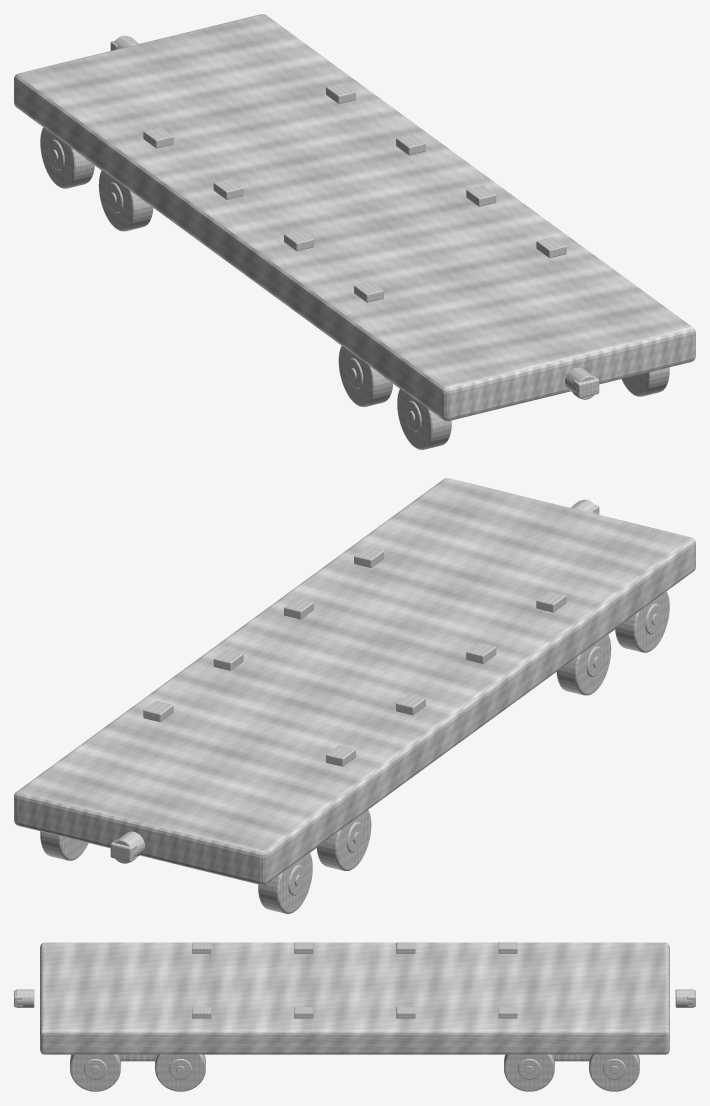
Rendered from freight_car_variant_a.glb.
The picture shows the model from 3 angles, top to bottom: view 1: azimuth 30°, elevation 25°; view 2: azimuth 150°, elevation 25°; view 3: azimuth 270°, elevation 25°; orthographic projection. The views are drawn at different scales.
Parts seen in each view (by area): view 1: Freight underframe, Rail wheel, Rail wheel.004, Rail wheel.006, Rail wheel.002, Rail wheel.001; view 2: Freight underframe, Rail wheel.006, Rail wheel.002, Rail wheel, Rail wheel.004, Rail wheel.007; view 3: Freight underframe, Rail wheel.001, Rail wheel.007, Rail wheel.003, Rail wheel.005, Wheel hub.001, Wheel hub.007, Wheel hub.003, Wheel hub.005, Coupler body.001, Coupler body.002, Bogie frame.001 (+1 smaller).
Boxes of the visible parts, x1=… form: Freight underframe: x1=14, y1=14, x2=695, y2=421; Rail wheel: x1=397, y1=388, x2=451, y2=449; Rail wheel.004: x1=98, y1=170, x2=153, y2=231; Rail wheel.006: x1=40, y1=127, x2=94, y2=188; Rail wheel.002: x1=338, y1=346, x2=392, y2=406; Rail wheel.001: x1=621, y1=367, x2=669, y2=396; Freight underframe: x1=14, y1=478, x2=695, y2=885; Rail wheel.006: x1=258, y1=852, x2=312, y2=913; Rail wheel.002: x1=556, y1=634, x2=611, y2=695; Rail wheel: x1=615, y1=591, x2=669, y2=652; Rail wheel.004: x1=317, y1=810, x2=371, y2=870; Rail wheel.007: x1=40, y1=831, x2=88, y2=860; Freight underframe: x1=40, y1=942, x2=669, y2=1054; Rail wheel.001: x1=70, y1=1054, x2=120, y2=1091; Rail wheel.007: x1=589, y1=1054, x2=639, y2=1091; Rail wheel.003: x1=155, y1=1054, x2=205, y2=1091; Rail wheel.005: x1=504, y1=1054, x2=554, y2=1091; Wheel hub.001: x1=84, y1=1059, x2=106, y2=1079; Wheel hub.007: x1=603, y1=1059, x2=625, y2=1079; Wheel hub.003: x1=169, y1=1059, x2=191, y2=1079; Wheel hub.005: x1=518, y1=1059, x2=540, y2=1079; Coupler body.001: x1=16, y1=989, x2=34, y2=1007; Coupler body.002: x1=675, y1=989, x2=693, y2=1007; Bogie frame.001: x1=118, y1=1054, x2=157, y2=1061.
Size of what is drawn, in the model's own units: 5 by 1.88 by 16.03.
Materials: 4 (4 with a texture image).
